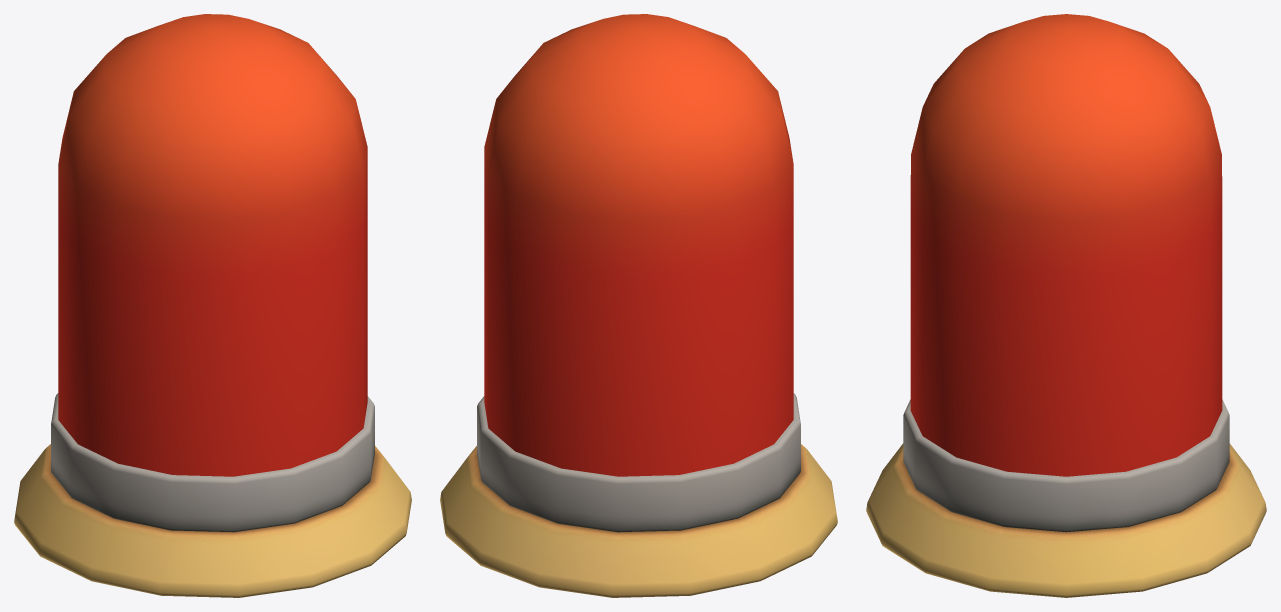
File: Warning_Light.fbx
3 views of the same model, side by side, from view 1: azimuth 30°, elevation 25°; view 2: azimuth 150°, elevation 25°; view 3: azimuth 270°, elevation 25° (orthographic).
Visible parts, largest first — view 1: Warning_Light; view 2: Warning_Light; view 3: Warning_Light.
Part boxes in pixels (left/top/right/bottom): Warning_Light: left=14, top=14, right=411, bottom=597; Warning_Light: left=440, top=14, right=837, bottom=597; Warning_Light: left=866, top=14, right=1266, bottom=597.
Bounding box in the file's own units: 48.89 × 65.25 × 48.89.
